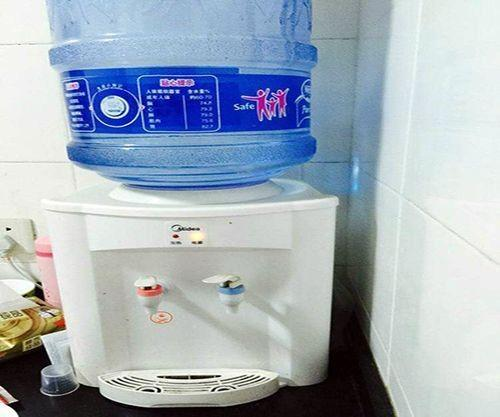Dispenser: (39, 0, 339, 407)
